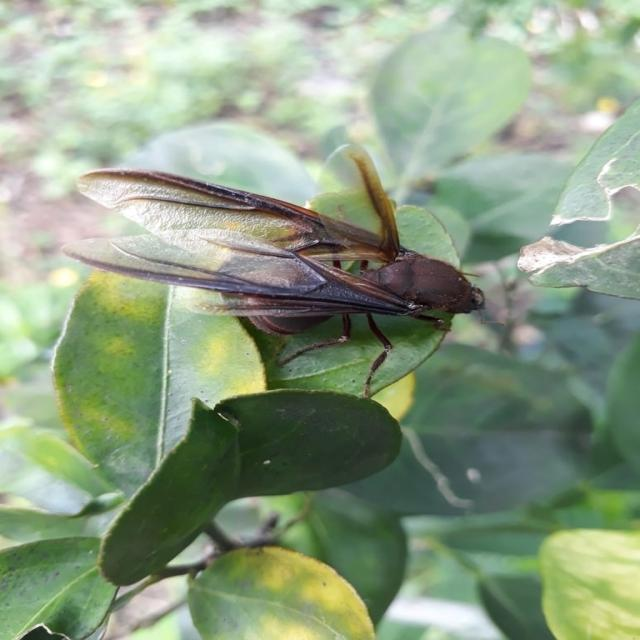Alive-Female-Alate: (60, 143, 508, 400)
